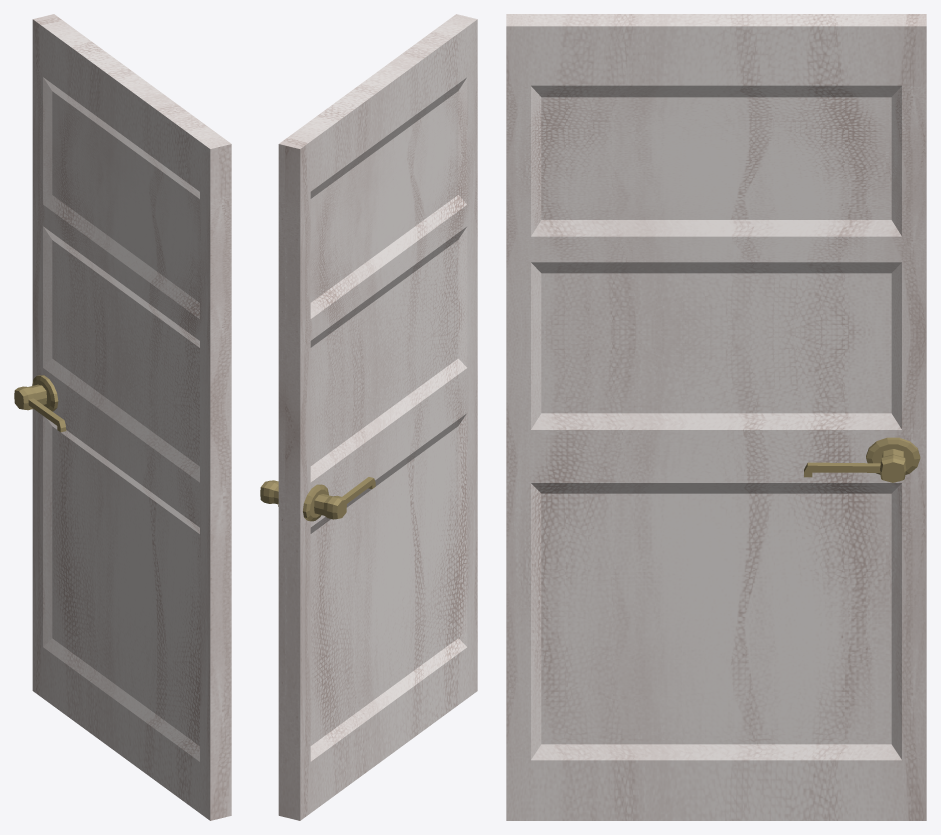
The model's file is Door.fbx.
3 views of the same model, side by side, from view 1: azimuth 30°, elevation 25°; view 2: azimuth 150°, elevation 25°; view 3: azimuth 270°, elevation 25° (orthographic). The views are drawn at different scales.
Visible parts, largest first — view 1: door, handle; view 2: door, handle; view 3: door, handle.
Part boxes in pixels (x1=…): door: x1=32, y1=14, x2=231, y2=820; handle: x1=14, y1=375, x2=66, y2=432; door: x1=278, y1=14, x2=477, y2=820; handle: x1=260, y1=477, x2=375, y2=521; door: x1=506, y1=14, x2=926, y2=820; handle: x1=804, y1=437, x2=920, y2=482.
Size of the model in its own units: 57.6 by 480 by 230.
2 materials, 1 textured.
